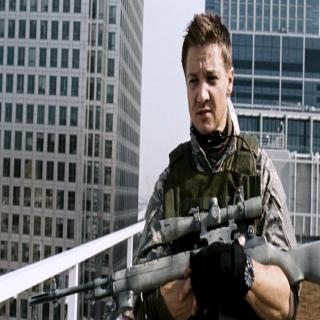gun: (17, 190, 319, 312)
